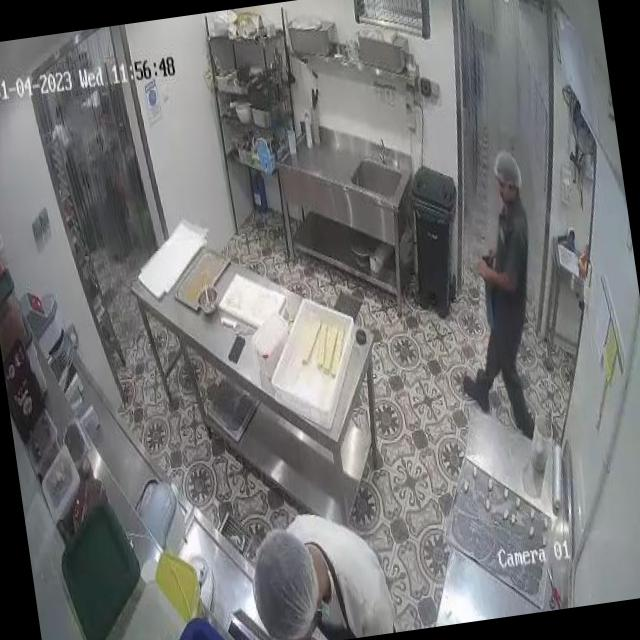hairnet: (496, 152, 522, 188)
